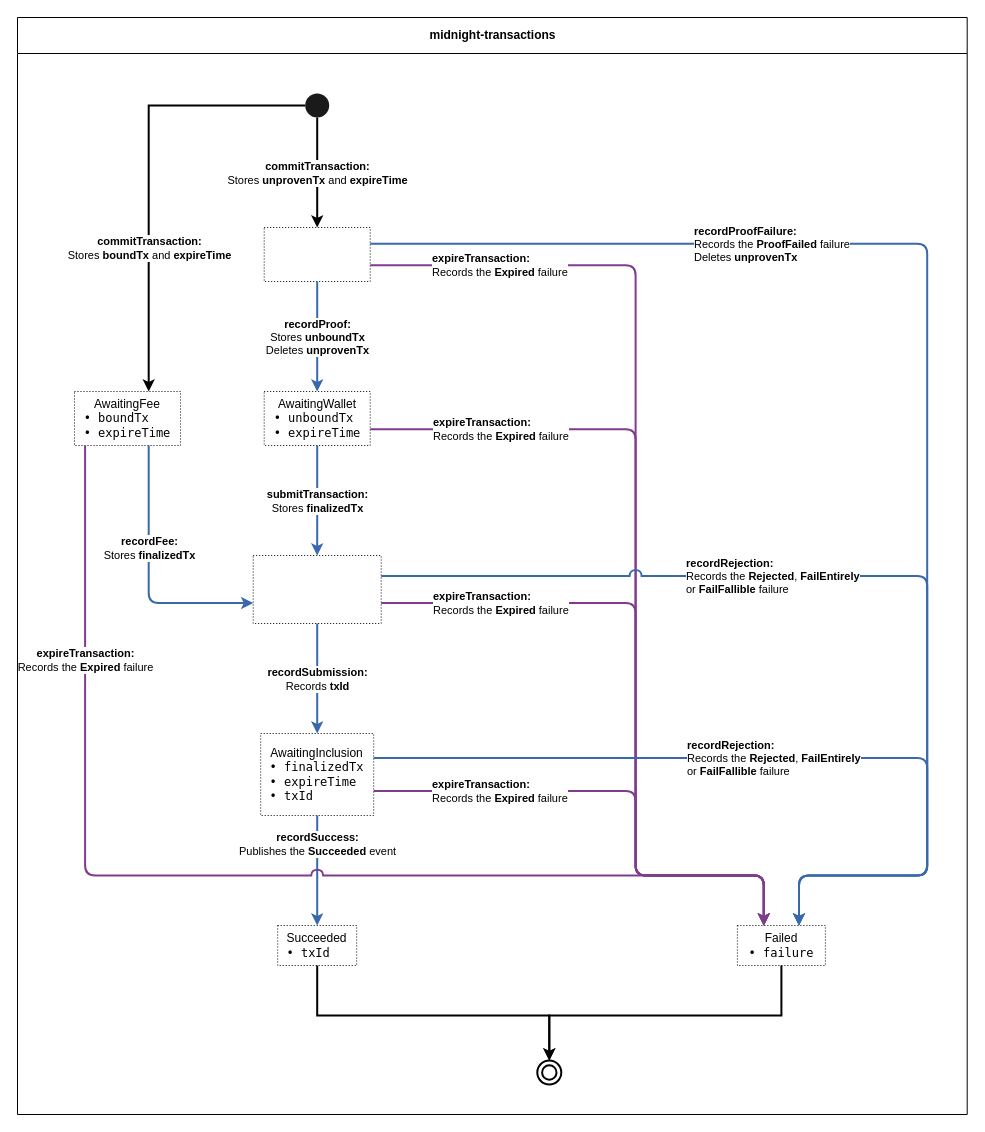
Some shapes in this 985 by 1132 pixel diagram are drawn without their labels. Each missing label, with the box of its shape:
AwaitingProof • unprovenTx • expireTime: (263, 226, 370, 282)
AwaitingSubmission • finalizedTx • expireTime: (252, 554, 381, 624)
